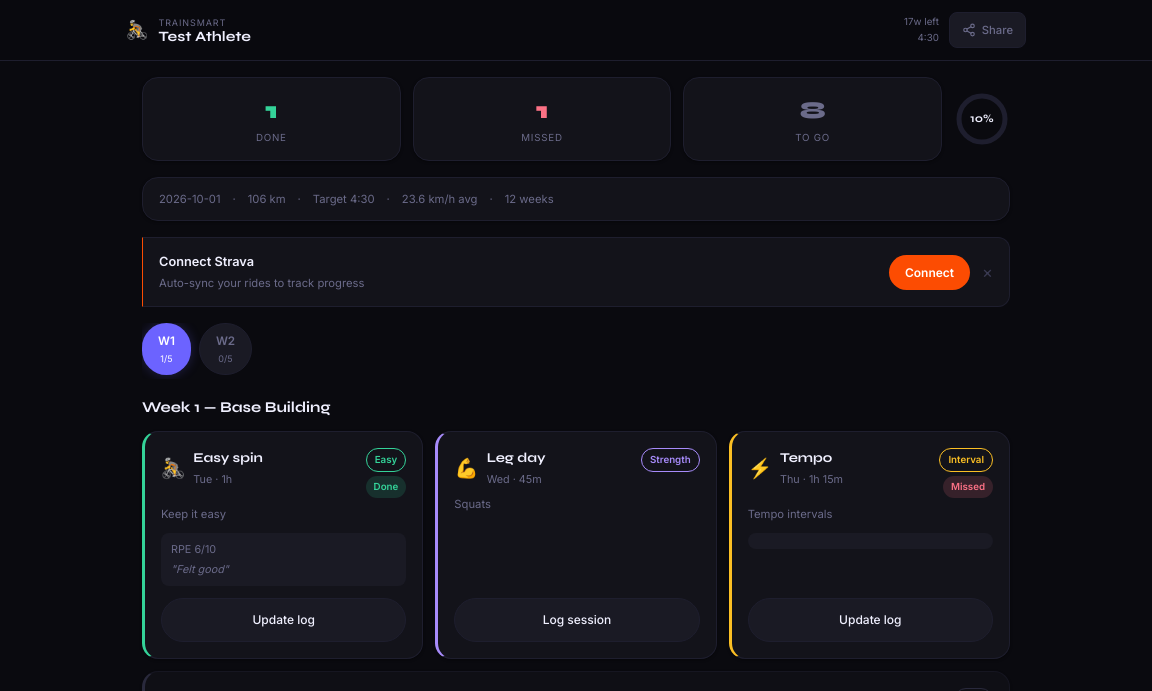
DashboardPage › log modal closes on cancel
This screenshot has width=1152, height=691.
Expected: the text "Easy spin" is shown, [193,448,263,470]
Step 1. Click the button "Log session" → (577, 620), box [454,598,700,642]
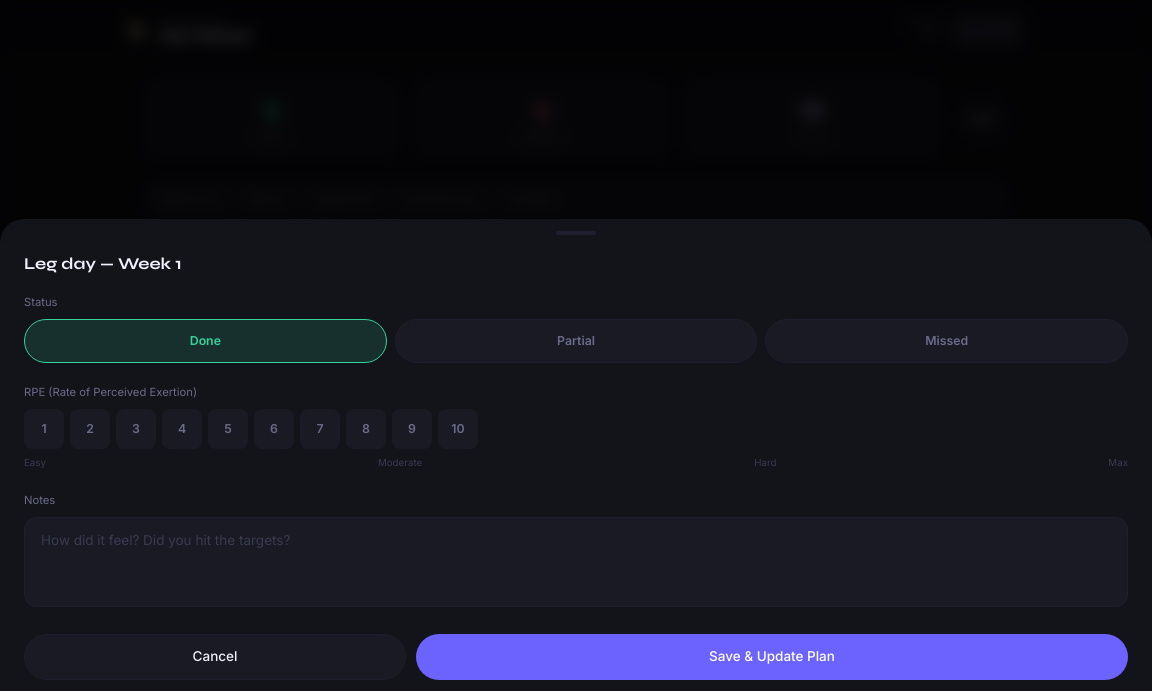
Expected: the button "Cancel" is shown
Step 2. Click the button "Cancel" → (215, 657), box [24,634,406,680]
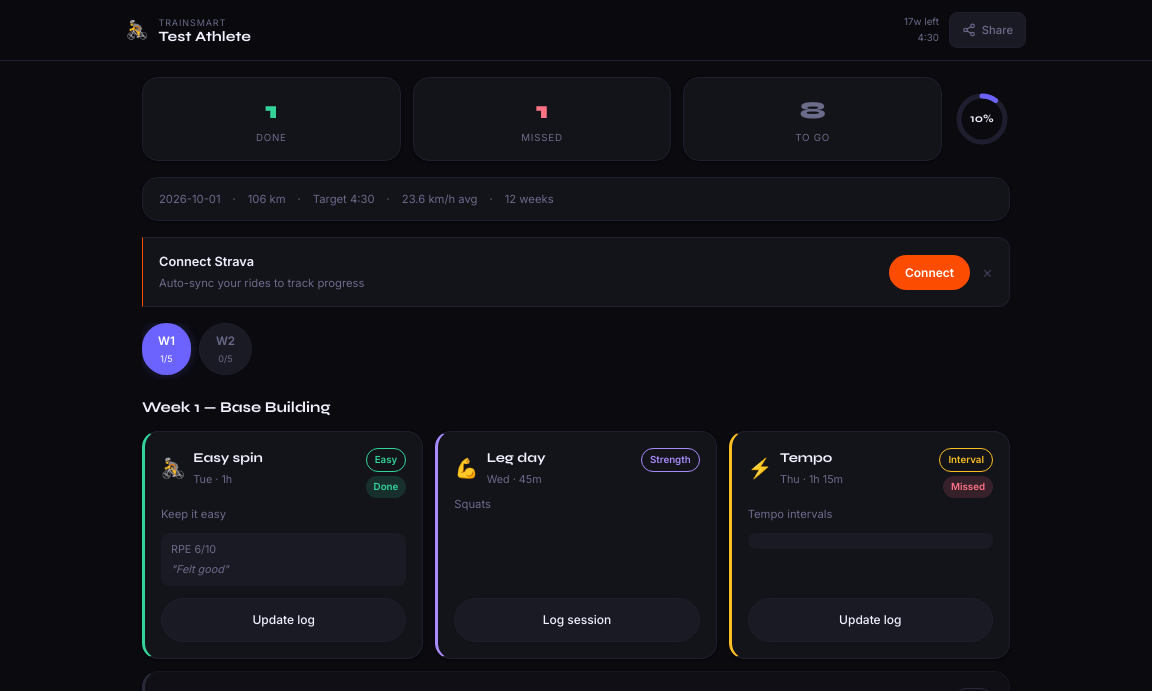
Expected: the button "Save & Update Plan" is gone
